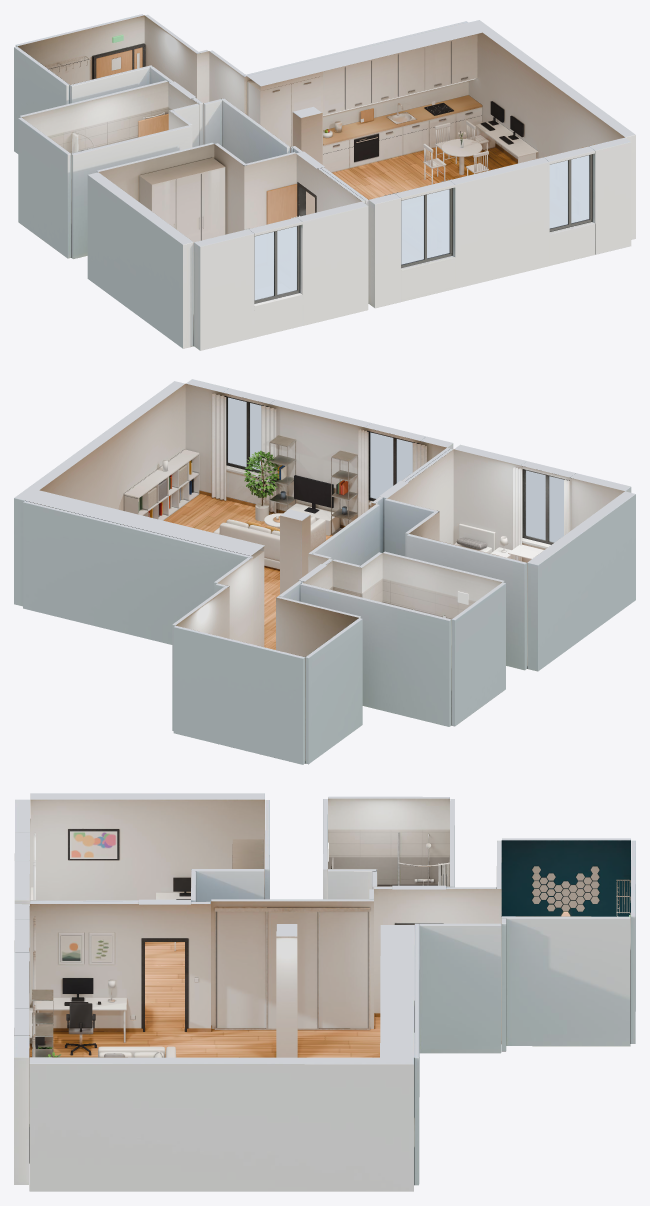
The model's file is flat_baked_no_ceiling_wishcap.glb.
3 renders of one model, top to bottom at view 1: azimuth 30°, elevation 25°; view 2: azimuth 150°, elevation 25°; view 3: azimuth 270°, elevation 25°, orthographic. The views are drawn at different scales.
Visible parts, largest first — view 1: zapec_telo_0, zapec_zdi_1, zapec_nabytek_6, zapec_podlahy_2, zapec_nabytek_7, sklo_okno_67, sklo_okno_111, sklo_okno_74; view 2: zapec_telo_0, zapec_zdi_1, zapec_nabytek_6, zapec_zaclony_5, zapec_podlahy_2, sklo_okno_111, sklo_okno_67, sklo_okno_74, zapec_listy_4; view 3: zapec_telo_0, zapec_zdi_1, zapec_nabytek_6, zapec_podlahy_2, zapec_nabytek_7, zapec_zaclony_5.
Boxes of the visible parts, left/top/right/bottom form: zapec_telo_0: left=14, top=14, right=635, bottom=350; zapec_zdi_1: left=17, top=15, right=624, bottom=345; zapec_nabytek_6: left=78, top=34, right=538, bottom=242; zapec_podlahy_2: left=332, top=147, right=517, bottom=199; zapec_nabytek_7: left=44, top=35, right=488, bottom=184; sklo_okno_67: left=401, top=189, right=449, bottom=264; sklo_okno_111: left=254, top=226, right=296, bottom=300; sklo_okno_74: left=549, top=155, right=589, bottom=228; zapec_telo_0: left=14, top=379, right=635, bottom=764; zapec_zdi_1: left=25, top=383, right=624, bottom=763; zapec_nabytek_6: left=123, top=435, right=543, bottom=646; zapec_zaclony_5: left=211, top=393, right=569, bottom=561; zapec_podlahy_2: left=163, top=493, right=332, bottom=649; sklo_okno_111: left=526, top=470, right=563, bottom=542; sklo_okno_67: left=370, top=432, right=412, bottom=498; sklo_okno_74: left=228, top=397, right=266, bottom=470; zapec_listy_4: left=244, top=450, right=279, bottom=498; zapec_telo_0: left=14, top=793, right=635, bottom=1191; zapec_zdi_1: left=29, top=798, right=630, bottom=1184; zapec_nabytek_6: left=29, top=832, right=599, bottom=1057; zapec_podlahy_2: left=30, top=942, right=380, bottom=1057; zapec_nabytek_7: left=130, top=858, right=630, bottom=1043; zapec_zaclony_5: left=32, top=832, right=35, bottom=1057.
Bounding box in the file's own units: 12.31 × 2.71 × 11.94.
9 materials, 7 textured.
